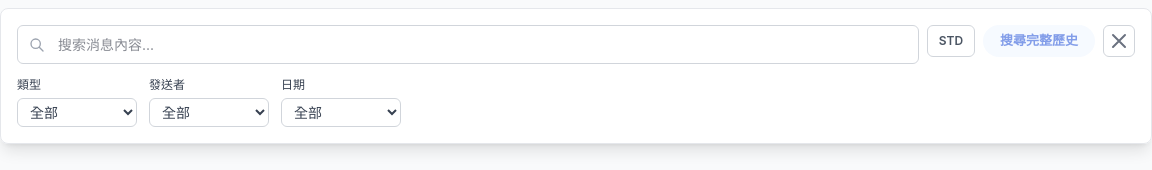
Test case: MessageSearch.vue › 高級搜索模式 › 點擊模式切換按鈕應切換到高級搜索
The image size is (1152, 170).
What coordinates should you click on to do the following:
click the button with class "mode-toggle"
I would click on:
 (951, 41)
Its box is x1=927 y1=25 x2=975 y2=57.
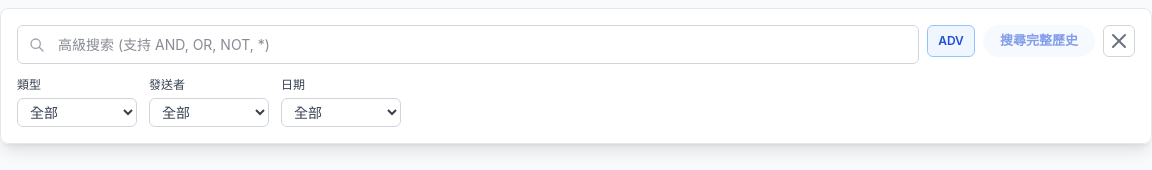
Expected: the button with class "mode-toggle" reads "ADV", x1=927 y1=25 x2=975 y2=57
